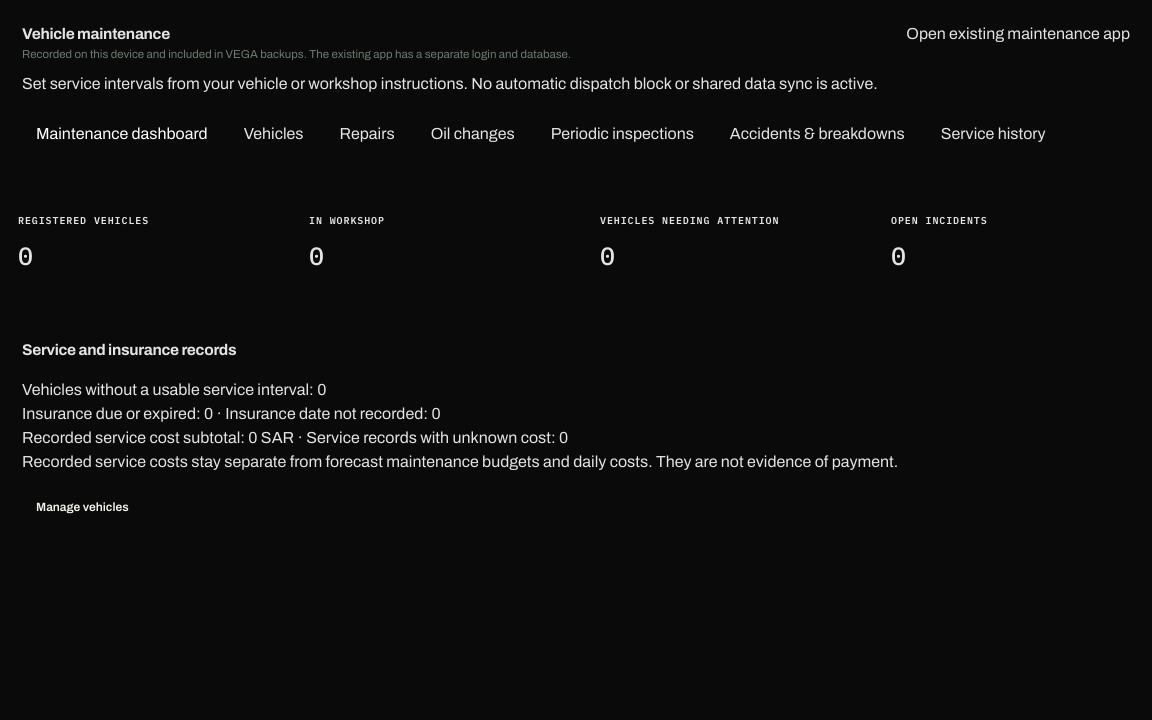
Test: maintenance operator workflow › does not claim save success when browser persistence fails
Click the button "Vehicles": (274, 134) [230,112,318,156]
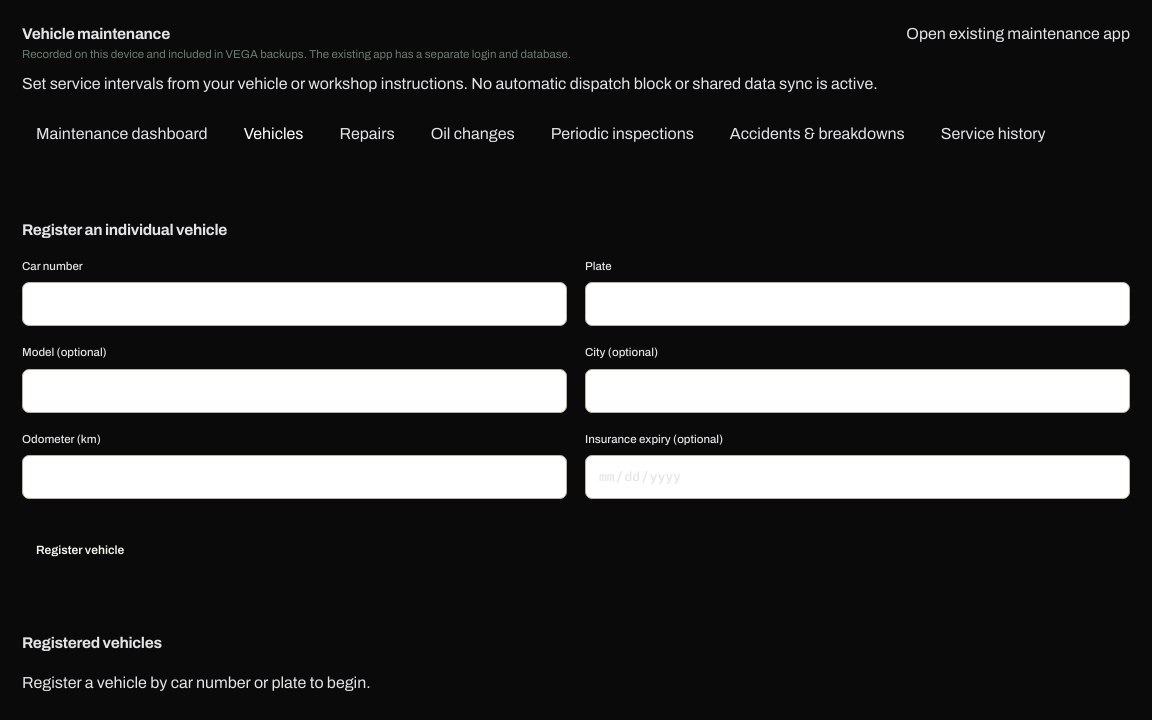
Now the element named "Register vehicle" is enabled, box [22,258,1130,569]
In the field labelled "Car number": (294, 304) [22,282,567,326], type "N9"
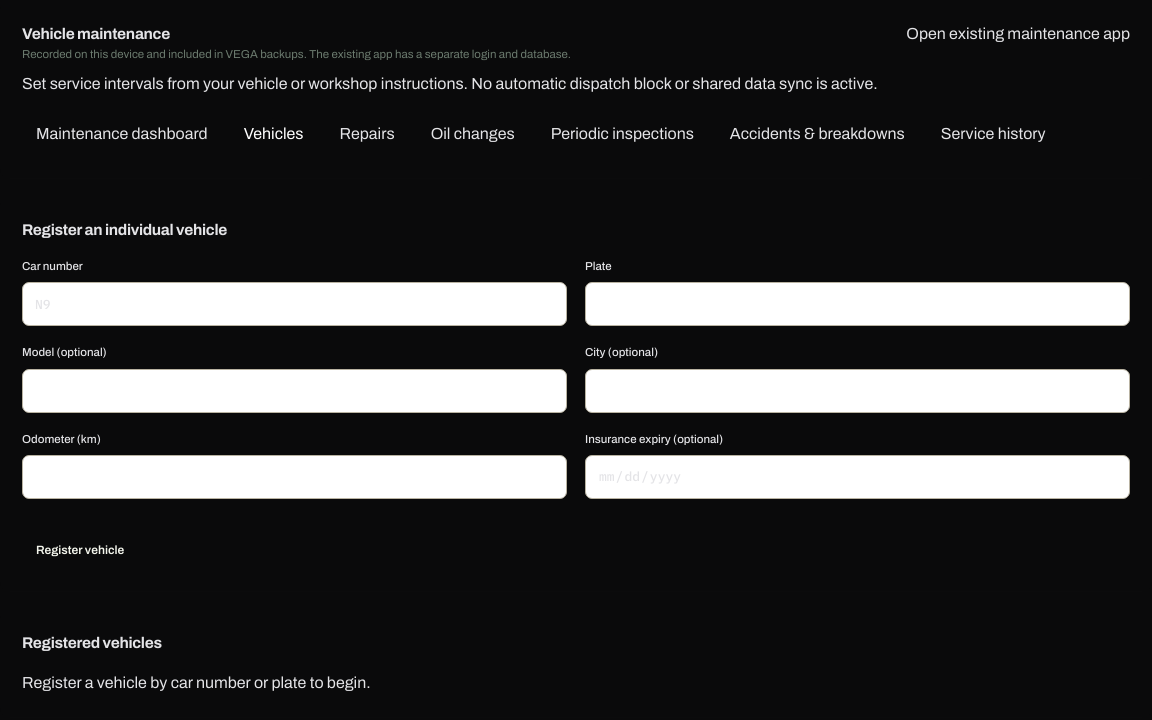
Click the button "Register vehicle": (80, 550) [22,531,567,569]
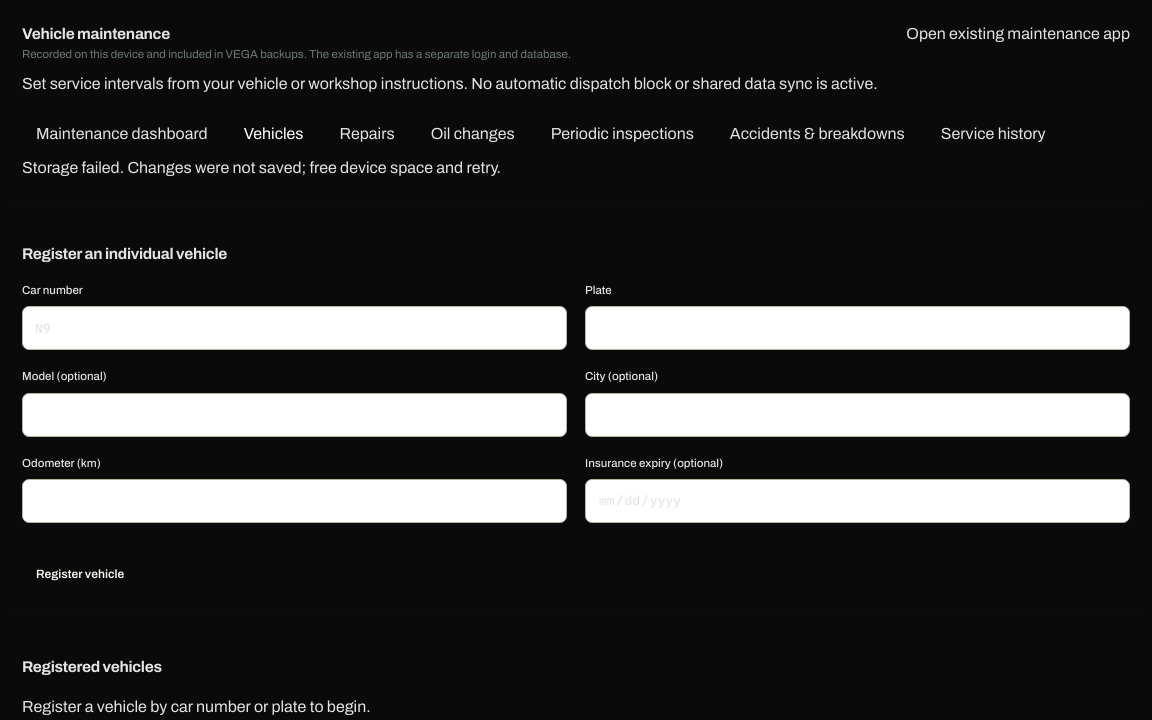
Now the message shows "Changes were not saved", box [22,159,501,176]
